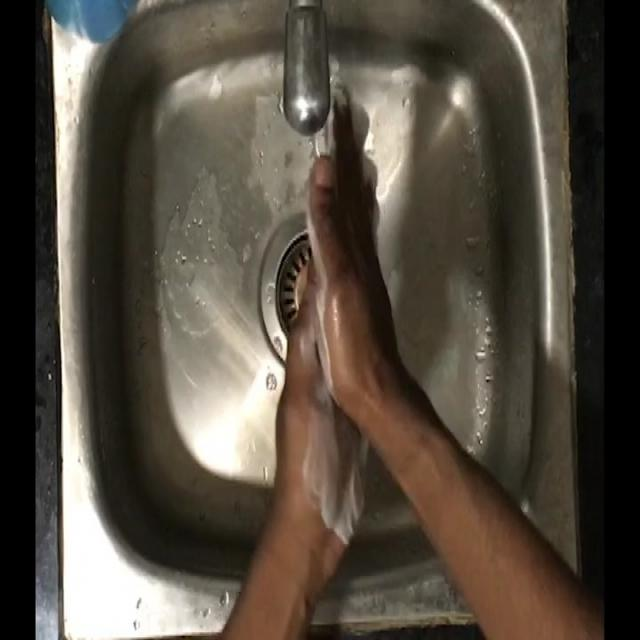step_1: (266, 65, 400, 402)
